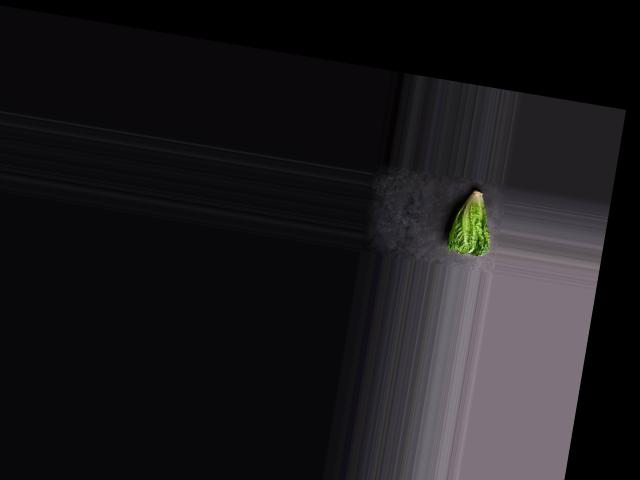lettuce: (443, 182, 500, 258)
